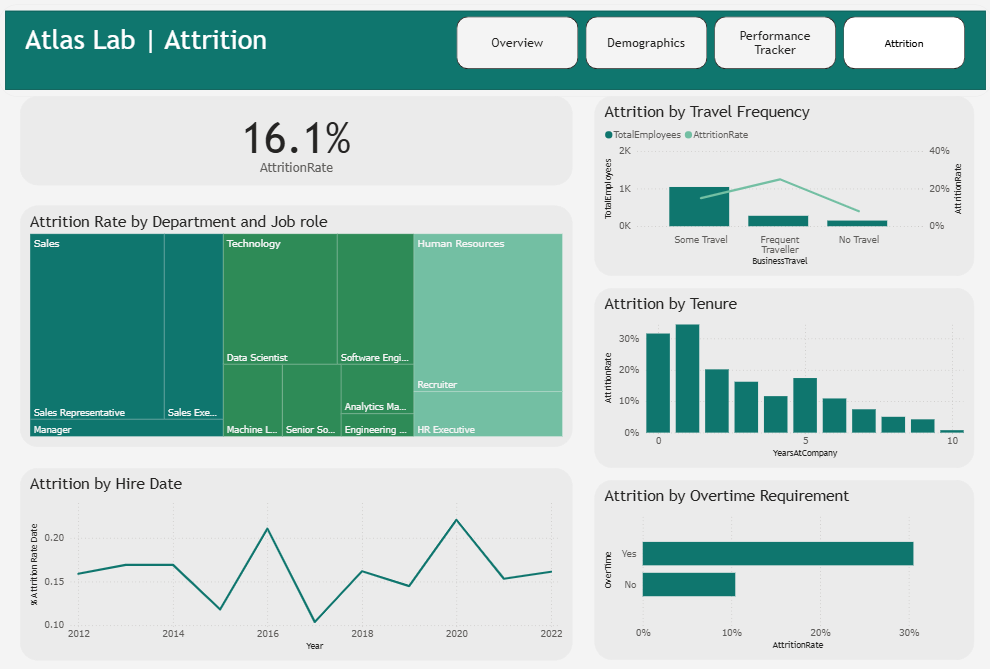

This screenshot's page, from the dashboard's own definition file:
{"tool":"powerbi","page":{"name":"Attrition","canvas":[1380,950],"ordinal":3},"visuals":[{"type":"shape","box":[0,10,1380.3,127.9],"z":0},{"type":"card","fields":{"Values":["_Measures.AttritionRate"]},"box":[29.7,137.8,767.6,124.3],"z":0,"group":"g2"},{"type":"textbox","box":[30.8,26.9,544.2,113.5],"z":1000},{"type":"treemap","title":"Attrition Rate by Department and Job role","fields":{"Group":["DimEmployee.Department"],"Values":["_Measures.AttritionRate"],"Details":["DimEmployee.JobRole"]},"box":[29.7,289.2,767.6,335.1],"z":1000,"group":"g2"},{"type":"group","id":"g1","title":"Group 1","box":[827,137.8,527,783.8],"z":2000},{"type":"lineChart","title":"Attrition by Hire Date","fields":{"Y":["_Measures.% Attrition Rate Date"],"Category":["DimDate.Date.Variation.Date Hierarchy.Year"]},"box":[29.7,654,767.6,267.6],"z":2000,"group":"g2"},{"type":"group","id":"g2","title":"Group 2","box":[29.7,137.8,767.6,783.8],"z":3000},{"type":"lineStackedColumnComboChart","title":"Attrition by Travel Frequency","fields":{"Category":["DimEmployee.BusinessTravel"],"Y":["_Measures.TotalEmployees"],"Y2":["_Measures.AttritionRate"]},"box":[827,137.8,527,249.9],"z":3000,"group":"g1"},{"type":"pageNavigator","box":[636.1,27.9,706.6,73.8],"z":4000},{"type":"barChart","title":"Attrition by Overtime Requirement","fields":{"Category":["DimEmployee.OverTime"],"Y":["_Measures.AttritionRate"]},"box":[827,671.7,527,249.9],"z":4000,"group":"g1"},{"type":"columnChart","title":"Attrition by Tenure","fields":{"Y":["_Measures.AttritionRate"],"Category":["DimEmployee.YearsAtCompany"]},"box":[827,404.8,527,249.9],"z":5000,"group":"g1"}]}

Visuals, with their boxes in screenshot pixels (x1, y1, x2, y2), scaled from the page's 1380x950 canvas onto the 990x669 screenshot:
shape: left=0, top=7, right=989, bottom=97
card - _Measures.AttritionRate: left=21, top=97, right=572, bottom=185
textbox: left=22, top=19, right=412, bottom=99
"Attrition Rate by Department and Job role" treemap: left=21, top=204, right=572, bottom=440
"Group 1" group: left=593, top=97, right=971, bottom=649
"Attrition by Hire Date" lineChart: left=21, top=461, right=572, bottom=649
"Group 2" group: left=21, top=97, right=572, bottom=649
"Attrition by Travel Frequency" lineStackedColumnComboChart: left=593, top=97, right=971, bottom=273
pageNavigator: left=456, top=20, right=963, bottom=72
"Attrition by Overtime Requirement" barChart: left=593, top=473, right=971, bottom=649
"Attrition by Tenure" columnChart: left=593, top=285, right=971, bottom=461
